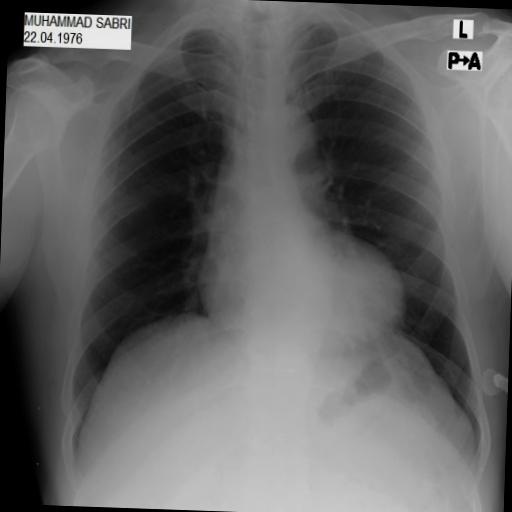kardiomegali: (49, 6, 506, 467)
